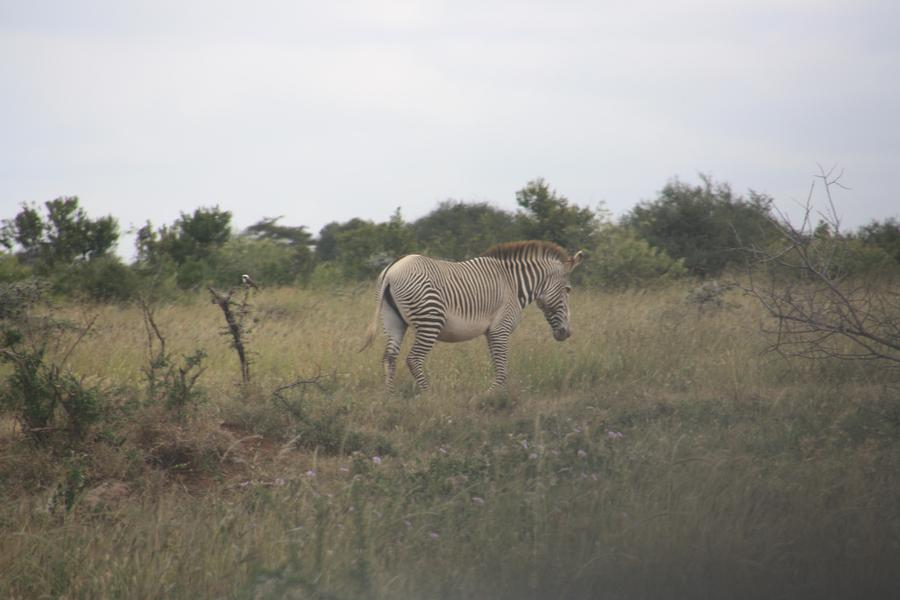zebra_grevys: (374, 250, 514, 336)
